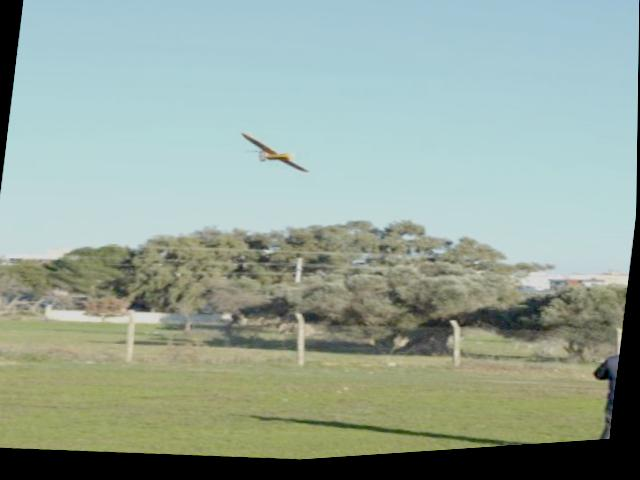iha: (236, 134, 312, 180)
